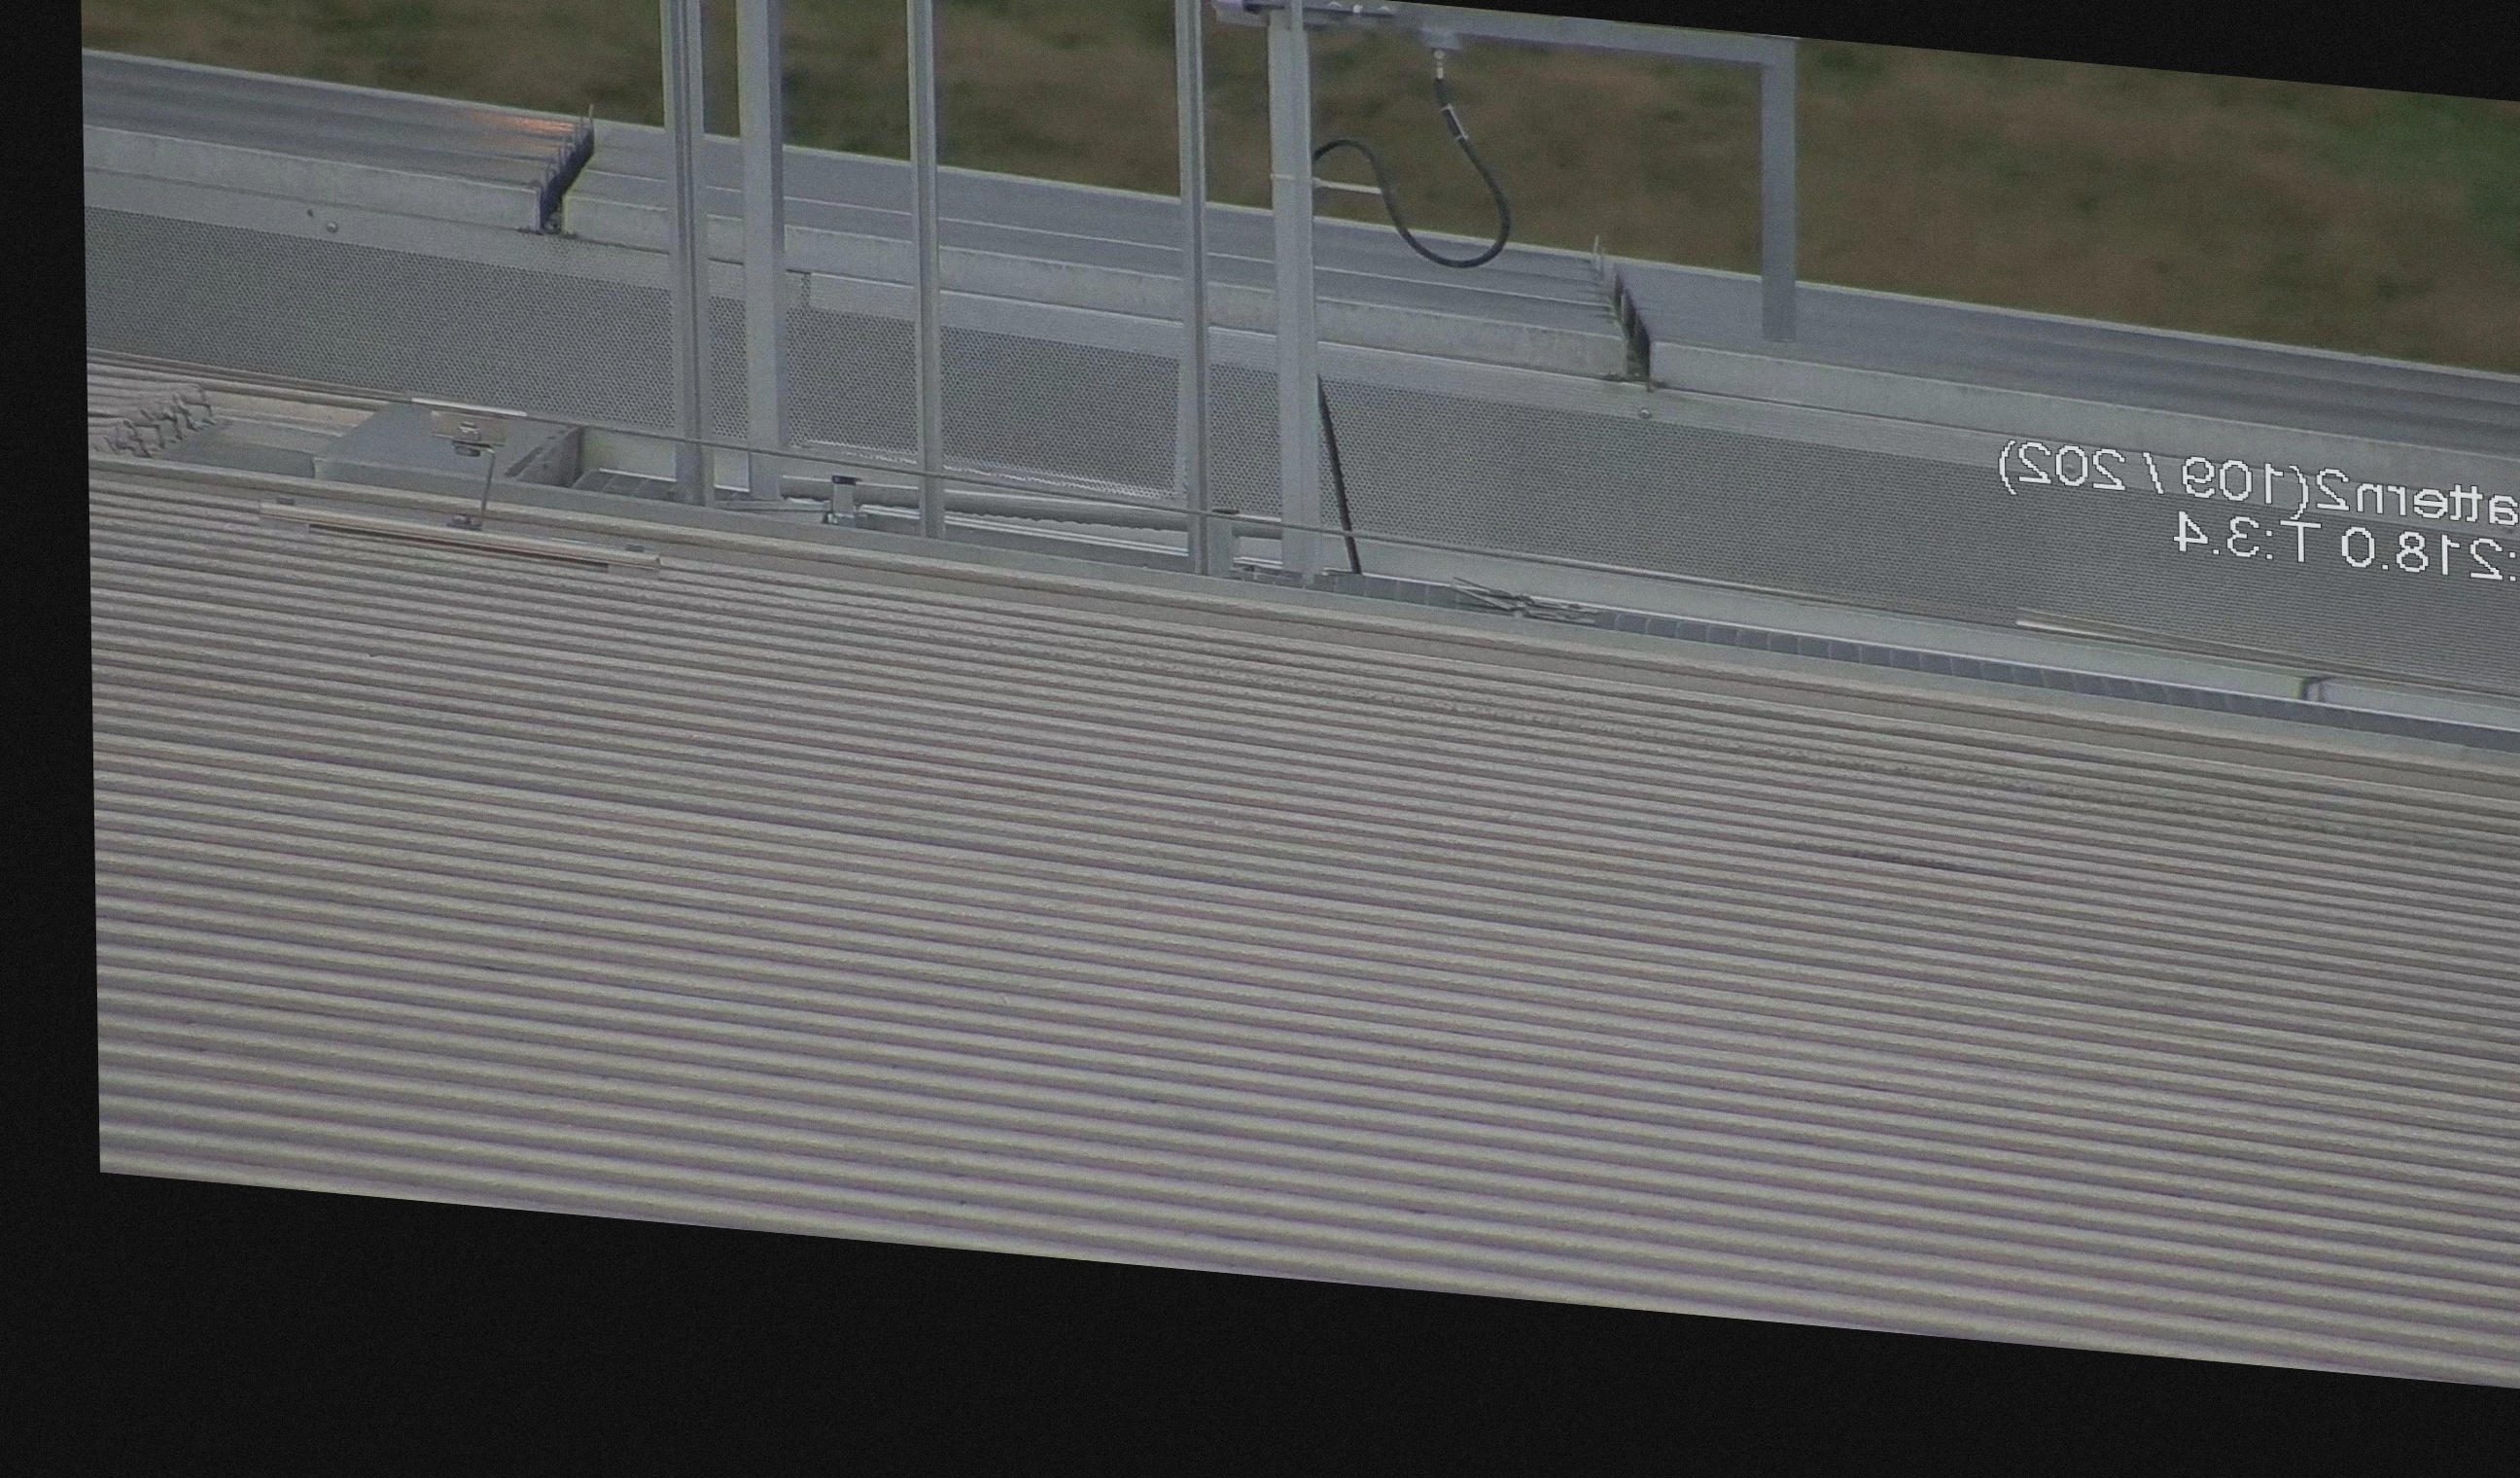Other: (499, 104, 608, 239)
